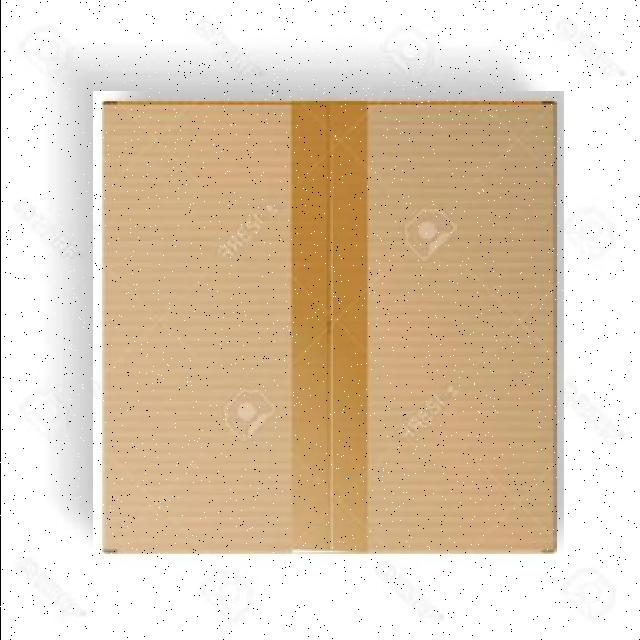normal: (92, 91, 563, 558)
